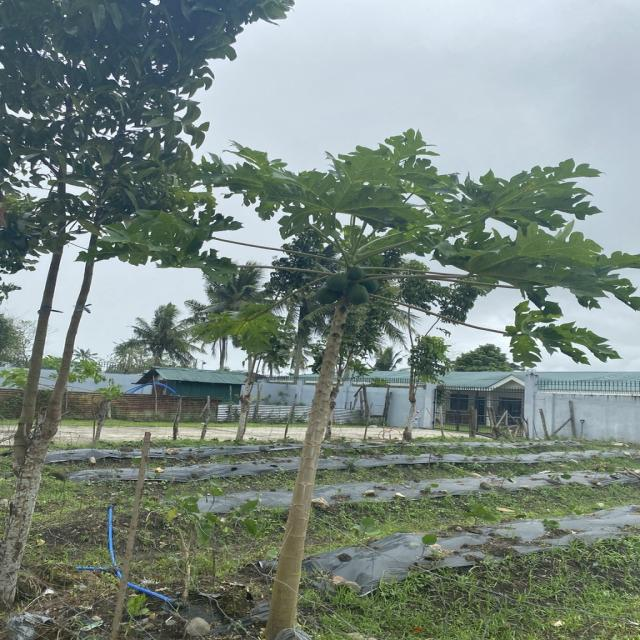Papaya-Tree: (157, 146, 606, 640)
